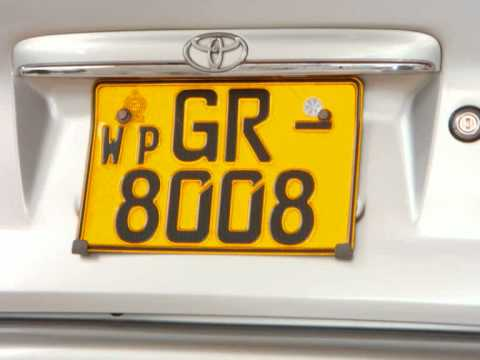doublelinenumberplate: (76, 80, 359, 257)
